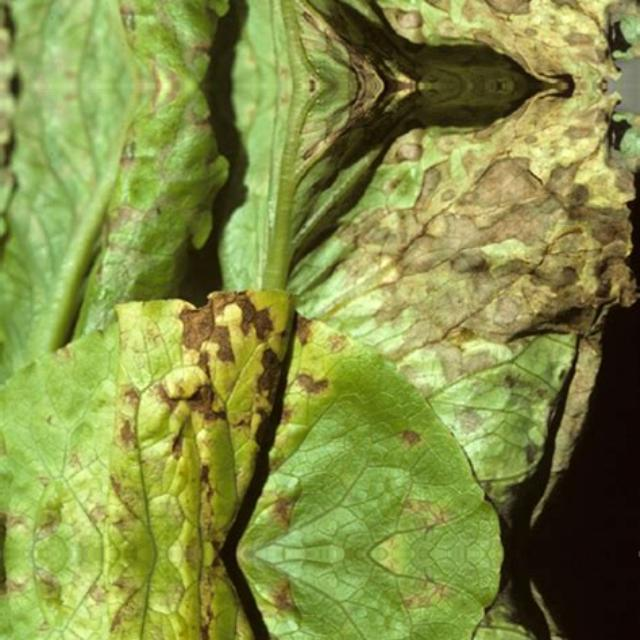Lettuce - Anthracnose: (6, 84, 640, 554), (6, 553, 640, 640), (6, 0, 640, 85)
